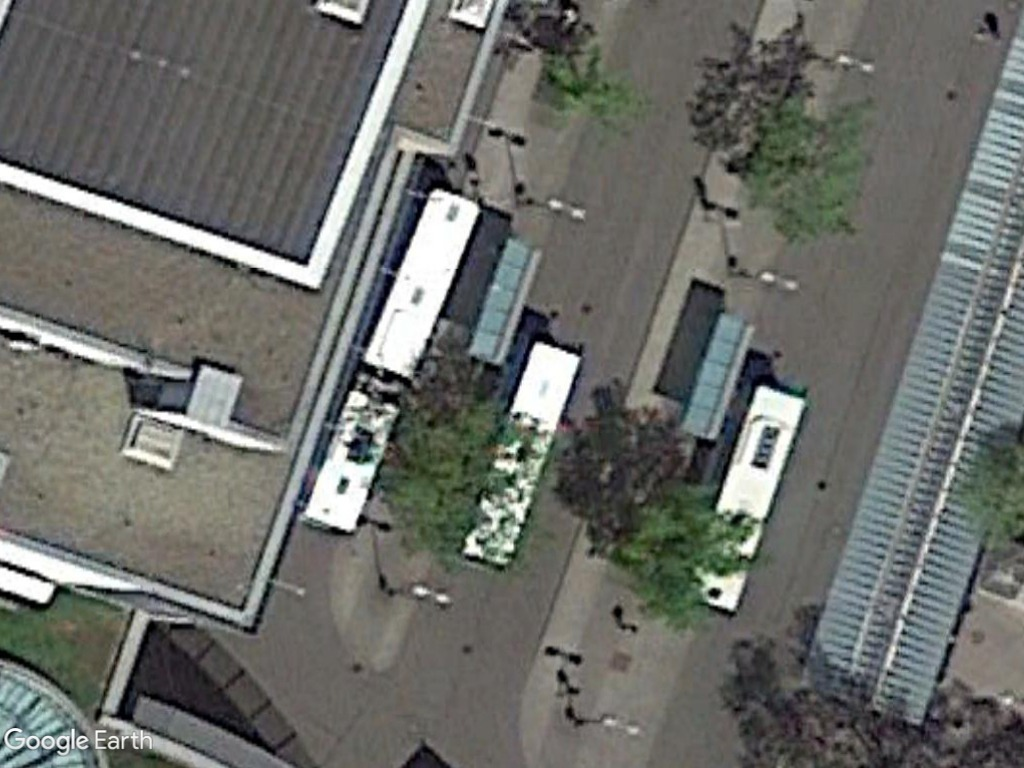bus: (446, 335, 587, 573), (680, 383, 812, 620), (356, 178, 487, 391), (294, 390, 403, 537)
